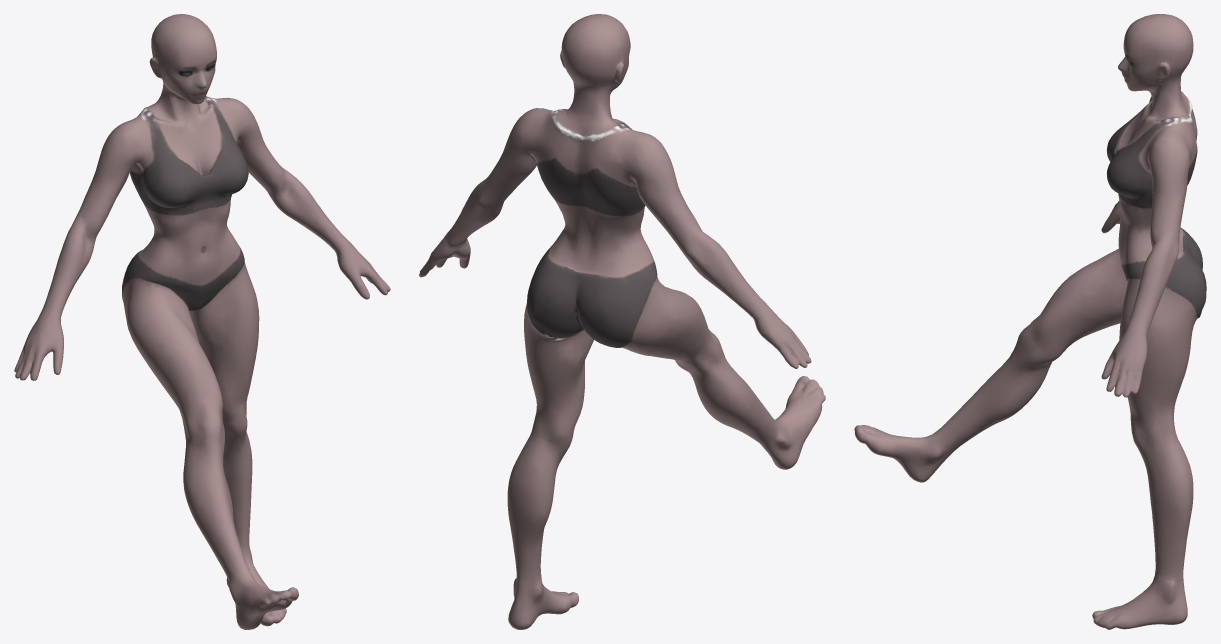
Rendered from bounded-ThighL-45.glb.
3 views of the same model, side by side, from view 1: azimuth 30°, elevation 25°; view 2: azimuth 150°, elevation 25°; view 3: azimuth 270°, elevation 25° (orthographic). The views are drawn at different scales.
Visible parts, largest first — view 1: bounded-ThighL-45; view 2: bounded-ThighL-45; view 3: bounded-ThighL-45.
Part boxes in pixels (x1,y1,x2,y2): bounded-ThighL-45: [14, 14, 390, 629]; bounded-ThighL-45: [419, 14, 825, 629]; bounded-ThighL-45: [854, 14, 1206, 629].
Bounding box in the file's own units: 0.6509 × 1 × 0.5517.
Materials: 1 (1 with a texture image).
